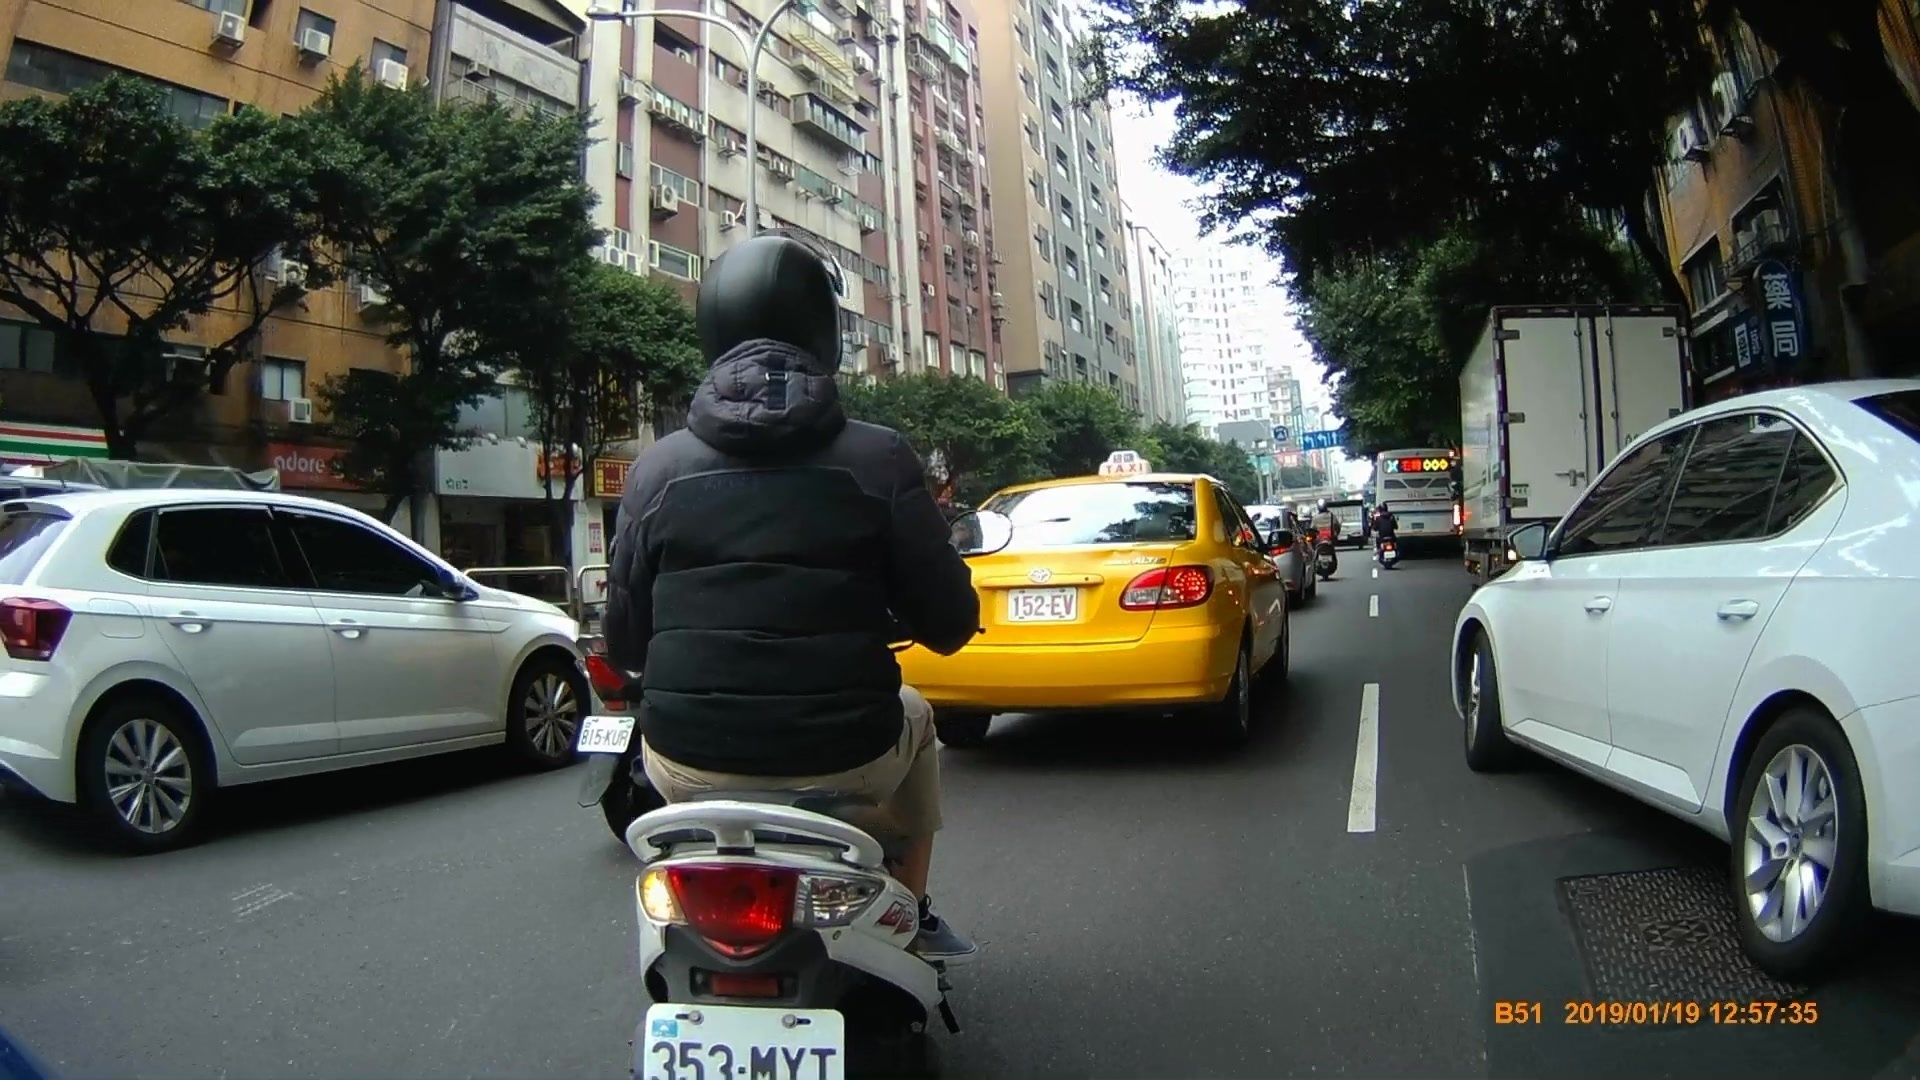License_plate: (641, 1004, 846, 1080), (1004, 591, 1084, 624)
